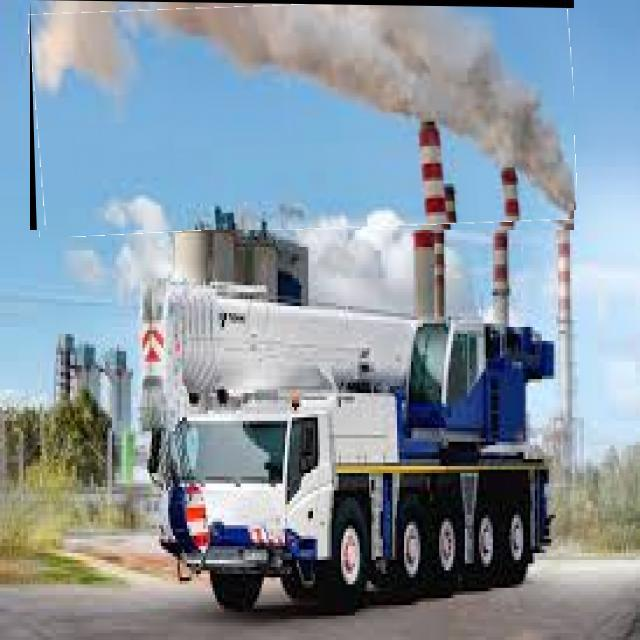smoke: (172, 13, 533, 117), (37, 18, 146, 112), (450, 123, 571, 172), (525, 177, 572, 215)
